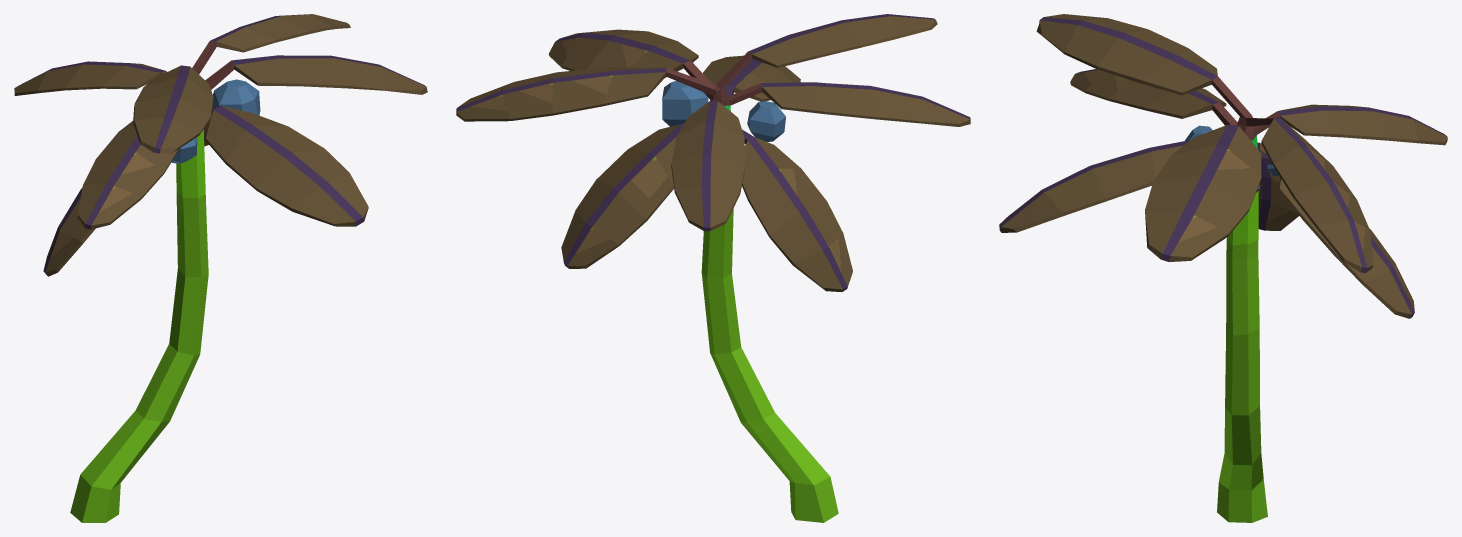
File: CoconutPalm02.fbx
The picture shows the model from 3 angles, left to right: view 1: azimuth 30°, elevation 25°; view 2: azimuth 150°, elevation 25°; view 3: azimuth 270°, elevation 25°; orthographic projection. The views are drawn at different scales.
Parts seen in each view (by area): view 1: PalmTopMidPoly.001; view 2: PalmTopMidPoly.001; view 3: PalmTopMidPoly.001.
Boxes of the visible parts, left/top/right/bottom form: PalmTopMidPoly.001: left=14, top=14, right=427, bottom=522; PalmTopMidPoly.001: left=456, top=14, right=970, bottom=522; PalmTopMidPoly.001: left=999, top=14, right=1447, bottom=522.
Size of the model in its own units: 106 by 117 by 96.66.
